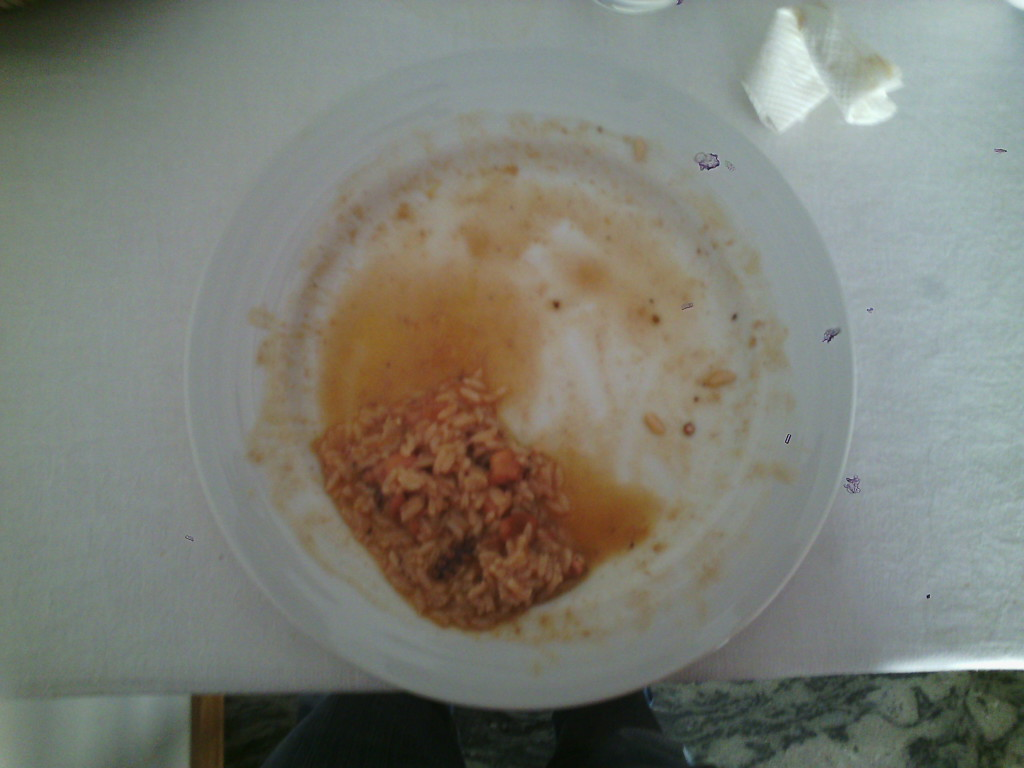21-40: (188, 45, 872, 729)
